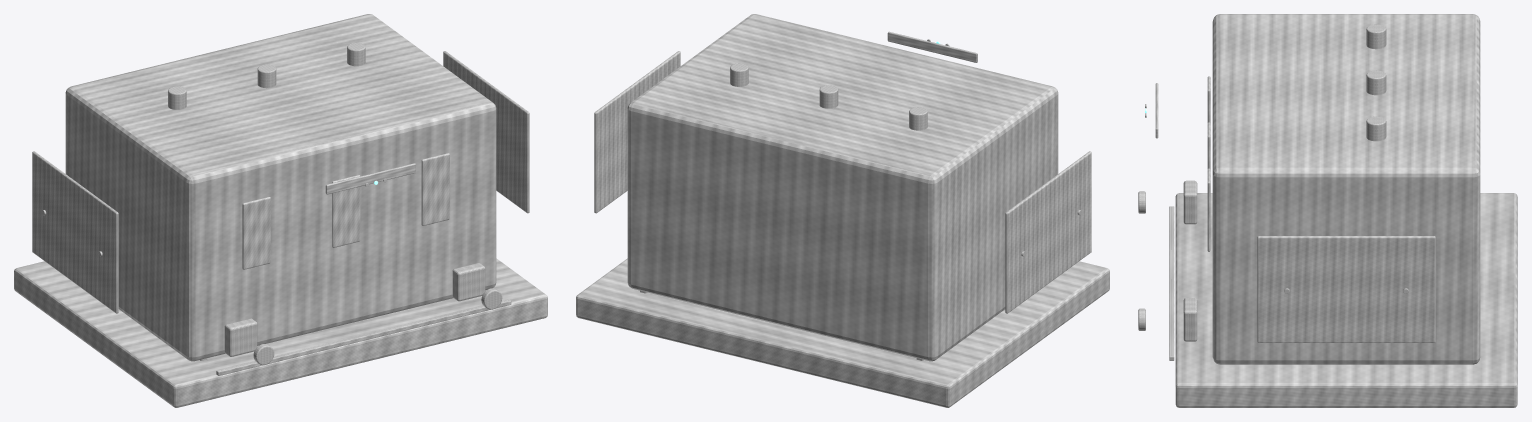
The model's file is assembler_variant_c.glb.
3 renders of one model, left to right at view 1: azimuth 30°, elevation 25°; view 2: azimuth 150°, elevation 25°; view 3: azimuth 270°, elevation 25°, orthographic. The views are drawn at different scales.
Visible parts, largest first — view 1: Main machine shell.002, Foundation skid.002, Side access panel.004, Side access panel.005, Workcell viewing window.008, Workcell viewing window.006, Amber safety sill.003, Workcell viewing window.007, Input output port.005, Input output port.004, Status panel.002; view 2: Main machine shell.002, Foundation skid.002, Side access panel.004, Side access panel.005, Status panel.002; view 3: Main machine shell.002, Foundation skid.002, Side access panel.005, Amber safety sill.003, Input output port.004, Input output port.005, Actuator.009, Actuator.008, Actuator.007.
Part boxes in pixels (left/top/right/bottom): Main machine shell.002: left=65, top=14, right=496, bottom=361; Foundation skid.002: left=14, top=258, right=547, bottom=407; Side access panel.004: left=32, top=151, right=118, bottom=313; Side access panel.005: left=443, top=51, right=529, bottom=213; Workcell viewing window.008: left=421, top=153, right=449, bottom=225; Workcell viewing window.006: left=242, top=197, right=270, bottom=269; Amber safety sill.003: left=216, top=299, right=511, bottom=375; Workcell viewing window.007: left=332, top=175, right=360, bottom=247; Input output port.005: left=452, top=263, right=485, bottom=301; Input output port.004: left=224, top=318, right=257, bottom=356; Status panel.002: left=325, top=163, right=415, bottom=194; Main machine shell.002: left=627, top=14, right=1058, bottom=361; Foundation skid.002: left=576, top=258, right=1109, bottom=407; Side access panel.004: left=1005, top=151, right=1091, bottom=313; Side access panel.005: left=594, top=51, right=680, bottom=213; Status panel.002: left=887, top=31, right=977, bottom=62; Main machine shell.002: left=1212, top=14, right=1480, bottom=364; Foundation skid.002: left=1175, top=193, right=1517, bottom=407; Side access panel.005: left=1257, top=236, right=1435, bottom=342; Amber safety sill.003: left=1169, top=206, right=1174, bottom=360; Input output port.004: left=1183, top=180, right=1197, bottom=224; Input output port.005: left=1183, top=298, right=1197, bottom=341; Actuator.009: left=1366, top=116, right=1386, bottom=141; Actuator.008: left=1366, top=70, right=1386, bottom=95; Actuator.007: left=1366, top=24, right=1386, bottom=49.
Size of what is drawn, in the model's own units: 8.24 by 4.25 by 6.12.
6 materials, 6 textured.
